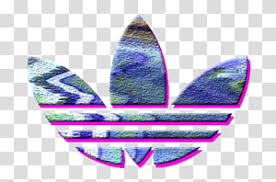adidas: (28, 13, 251, 167)
